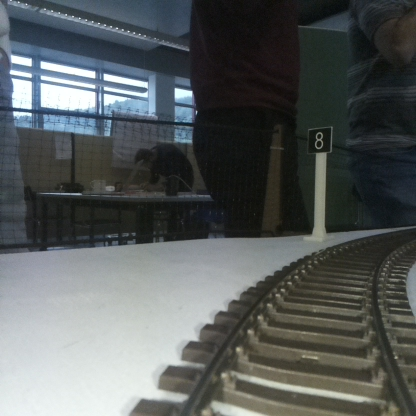black-info-8: (307, 127, 331, 238)
